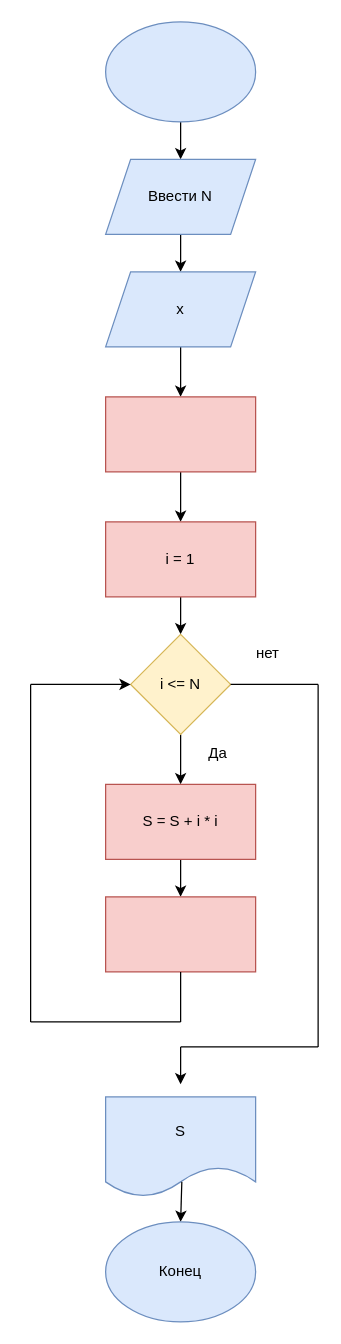
This 341x1344 diagram has some shape labels left out. Here are the shapes that lost their labels. From the top down, the centre of each, then its label:
(180,71): Начало
(180,434): S = 0
(180,934): i = i + 1
